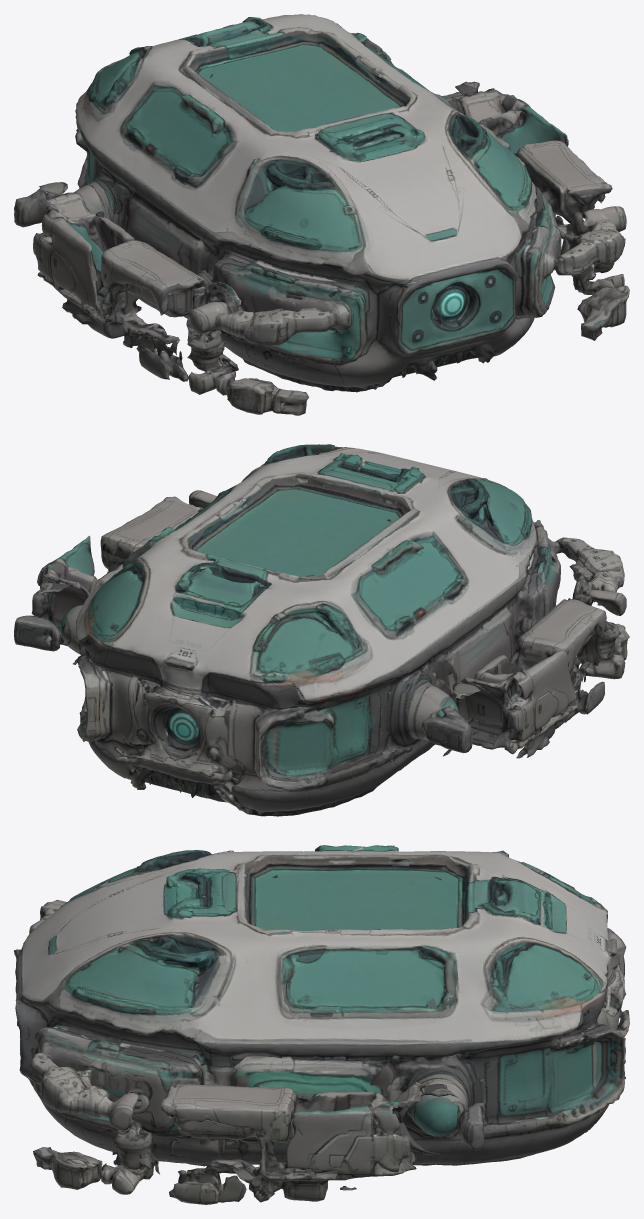
Rendered from RepairRobot.glb.
3 renders of one model, top to bottom at view 1: azimuth 30°, elevation 25°; view 2: azimuth 150°, elevation 25°; view 3: azimuth 270°, elevation 25°, orthographic. The views are drawn at different scales.
Parts seen in each view (by area): view 1: texture_mapping; view 2: texture_mapping; view 3: texture_mapping.
Boxes of the visible parts, left/top/right/bottom form: texture_mapping: left=14, top=14, right=629, bottom=415; texture_mapping: left=14, top=444, right=629, bottom=816; texture_mapping: left=14, top=845, right=629, bottom=1204.
Bounding box in the file's own units: 0.9314 × 0.3768 × 0.9575.
Materials: 1 (1 with a texture image).
